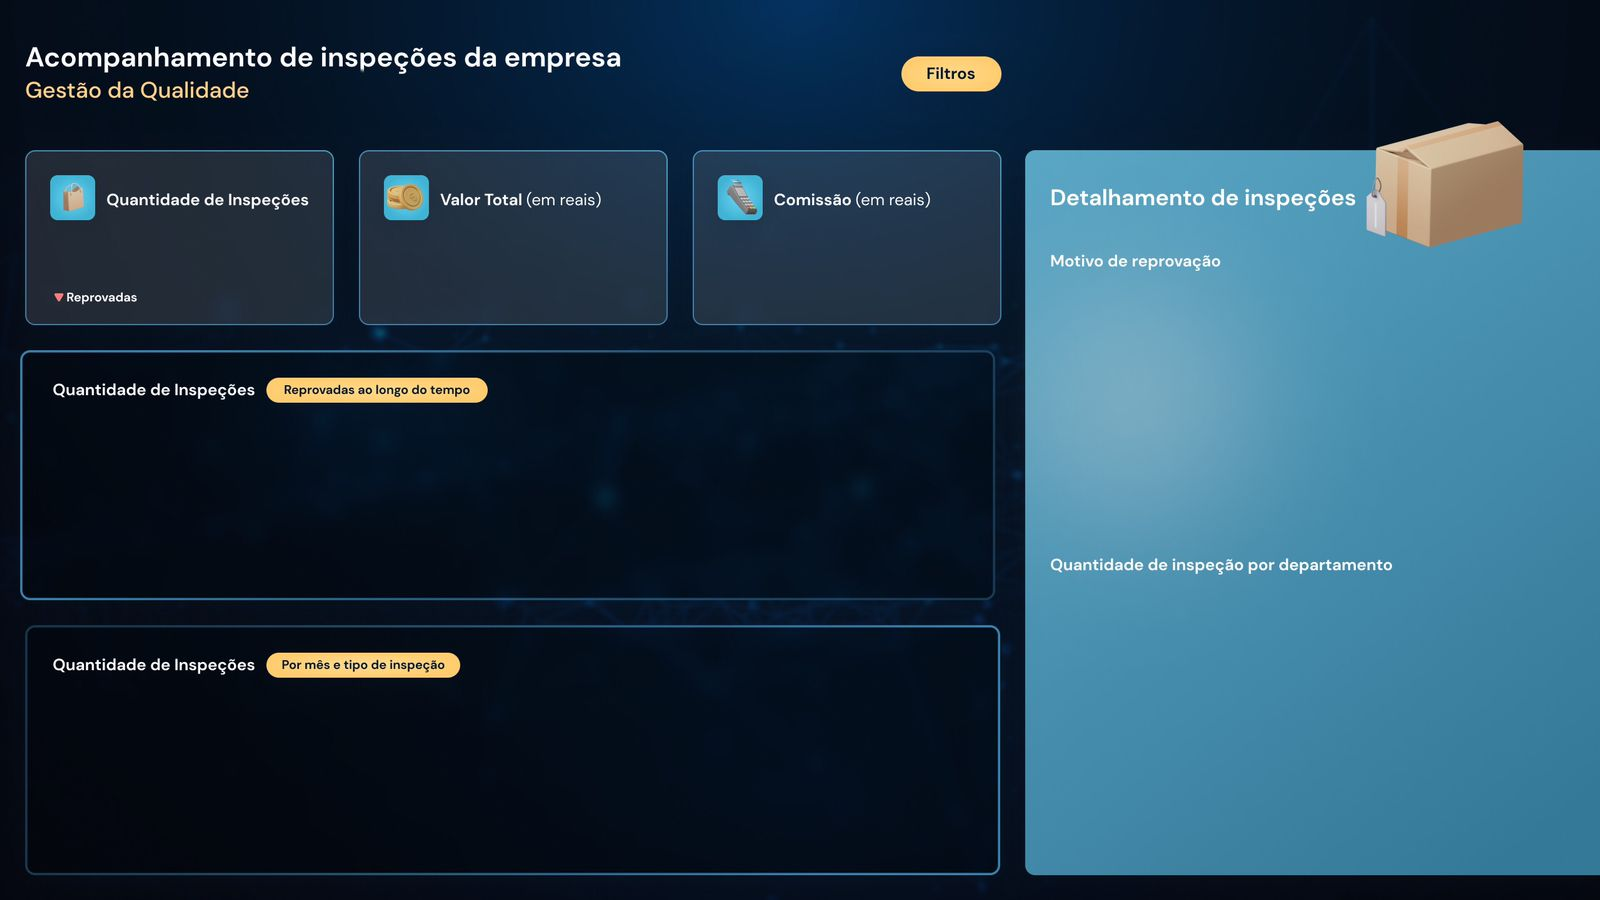

Layout of this report page (visuals, bound fields, positions):
{"tool":"powerbi","page":{"name":"Dashboard","canvas":[1280,720],"ordinal":0},"visuals":[{"type":"card","fields":{"Values":["inspecao.inspecao_qtde"]},"box":[11.3,53.9,280.6,279.2],"z":0},{"type":"card","fields":{"Values":["inspecao.inspecao_qtde"]},"box":[0,99.1,280.5,278.8],"z":1000},{"type":"card","fields":{"Values":["inspecao.valor_total"]},"box":[272.2,52.2,281.1,280],"z":2000},{"type":"card","fields":{"Values":["inspecao.comissao"]},"box":[533.3,53.3,281.1,280],"z":3000},{"type":"columnChart","fields":{"Y":["inspecao.inspecao_qtde"],"Category":["inspecao.Data de Inspeção.Variation.Hierarquia de datas.Ano","inspecao.Data de Inspeção.Variation.Hierarquia de datas.Mês"],"Series":["inspecao.Inspeção"]},"box":[30,542.2,760,138.9],"z":4000},{"type":"lineChart","fields":{"Category":["inspecao.Data de Inspeção.Variation.Hierarquia de datas.Ano","inspecao.Data de Inspeção.Variation.Hierarquia de datas.Mês"],"Y":["inspecao.inspecao_qtde"]},"box":[33.3,333.3,760,134.4],"z":5000},{"type":"slicer","fields":{"Values":["Departamento.nome_dpt"]},"box":[830,38.9,410,43.3],"z":6000},{"type":"clusteredBarChart","fields":{"Category":["inspecao.Motivo de Reprovação"],"Y":["inspecao.inspecao_qtde"]},"box":[815.7,214.3,452.9,212.9],"z":7000},{"type":"treemap","fields":{"Values":["inspecao.inspecao_qtde"],"Group":["Departamento.nome_dpt"]},"box":[827.1,467.1,452.9,214.3],"z":8000}]}

Visuals, with their boxes in screenshot pixels (x1, y1, x2, y2), scaled from the page's 1280x720 canvas onto the 1600x900 screenshot:
card - inspecao.inspecao_qtde: 14,67,365,416
card - inspecao.inspecao_qtde: 0,124,351,472
card - inspecao.valor_total: 340,65,692,415
card - inspecao.comissao: 667,67,1018,417
columnChart - inspecao.inspecao_qtde x inspecao.Data de Inspeção.Variation.Hierarquia de datas.Ano: 38,678,988,851
lineChart - inspecao.Data de Inspeção.Variation.Hierarquia de datas.Ano x inspecao.Data de Inspeção.Variation.Hierarquia de datas.Mês: 42,417,992,585
slicer - Departamento.nome_dpt: 1038,49,1550,103
clusteredBarChart - inspecao.Motivo de Reprovação x inspecao.inspecao_qtde: 1020,268,1586,534
treemap - inspecao.inspecao_qtde x Departamento.nome_dpt: 1034,584,1599,852
